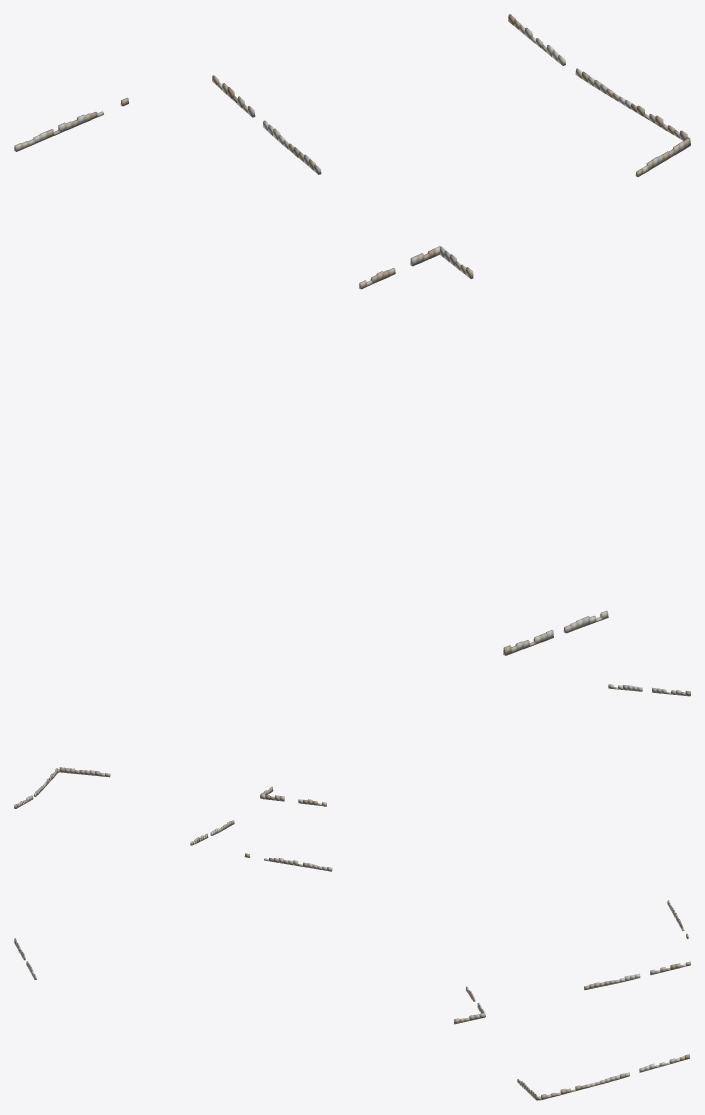
Rendered from farm_-4_13_collision.glb.
The picture shows the model from 3 angles, top to bottom: view 1: azimuth 30°, elevation 25°; view 2: azimuth 150°, elevation 25°; view 3: azimuth 270°, elevation 25°; orthographic projection. The views are drawn at different scales.
Parts seen in each view (by area): view 1: geometry_0; view 2: geometry_0; view 3: geometry_0.
Part boxes in pixels (<box>): geometry_0: <box>14,14,690,655</box>; geometry_0: <box>14,684,690,871</box>; geometry_0: <box>14,900,690,1100</box>.
Size of the model in its own units: 133 by 21.52 by 209.
